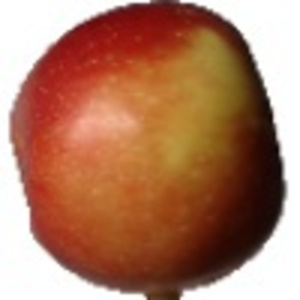maçã braeburn: (10, 1, 286, 293)
